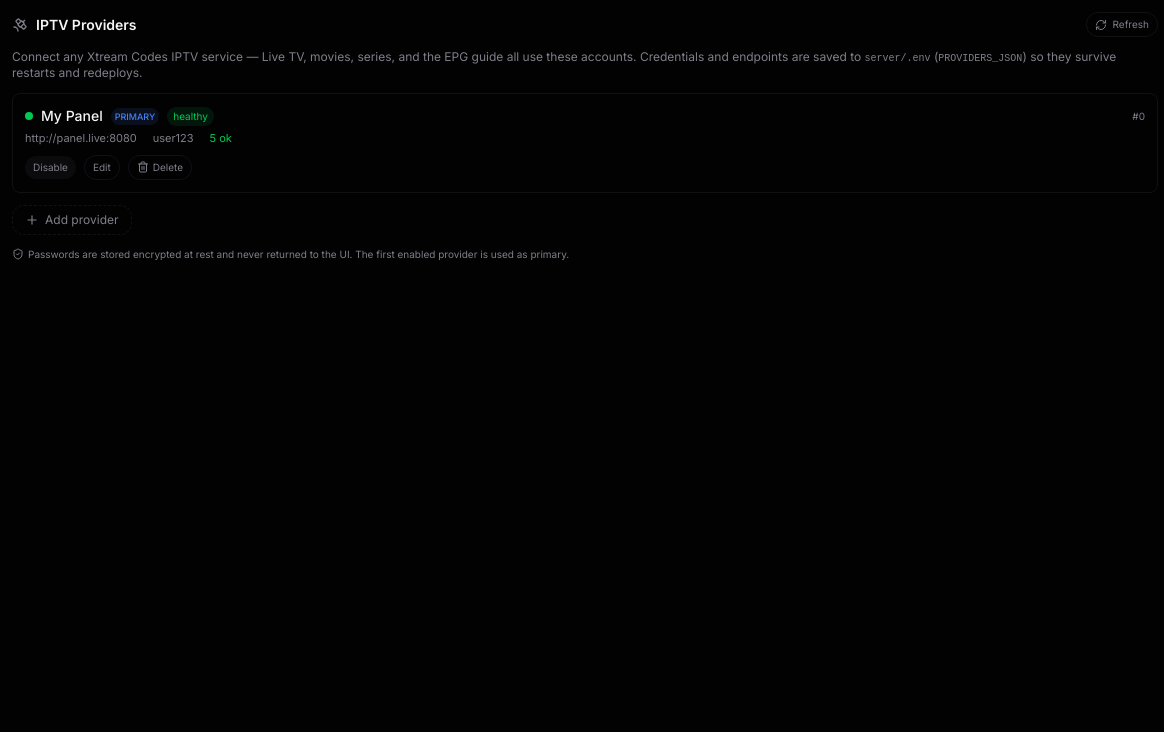
Scenario: ProviderSettings › saves an edit without re-entering the password
The width and height of the screenshot is (1164, 732).
Expected: the text "Connect any Xtream Codes IPTV service" is shown, 12,49 -> 861,64
Click the button "Edit". click: (102, 167)
box: 84,155 -> 120,180
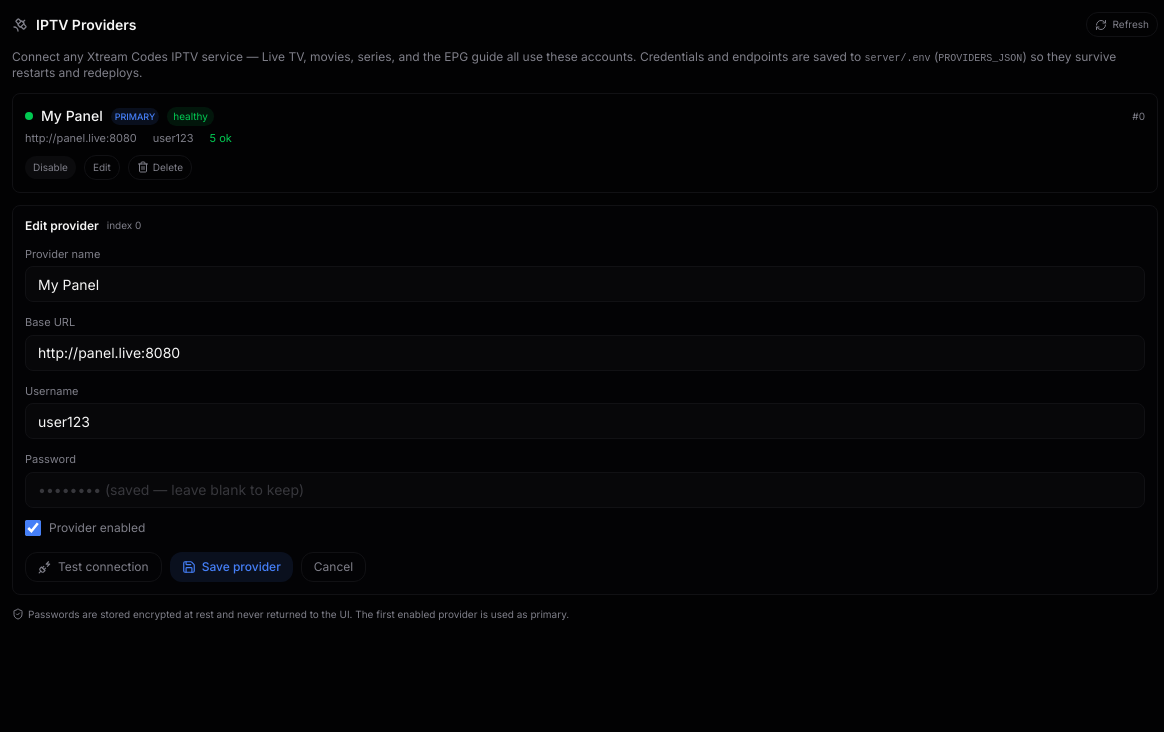
Expected: the field labelled "Base URL" is shown, 25,335 -> 1145,371
Click the button "Save provider". click: (231, 567)
box: 170,552 -> 293,582
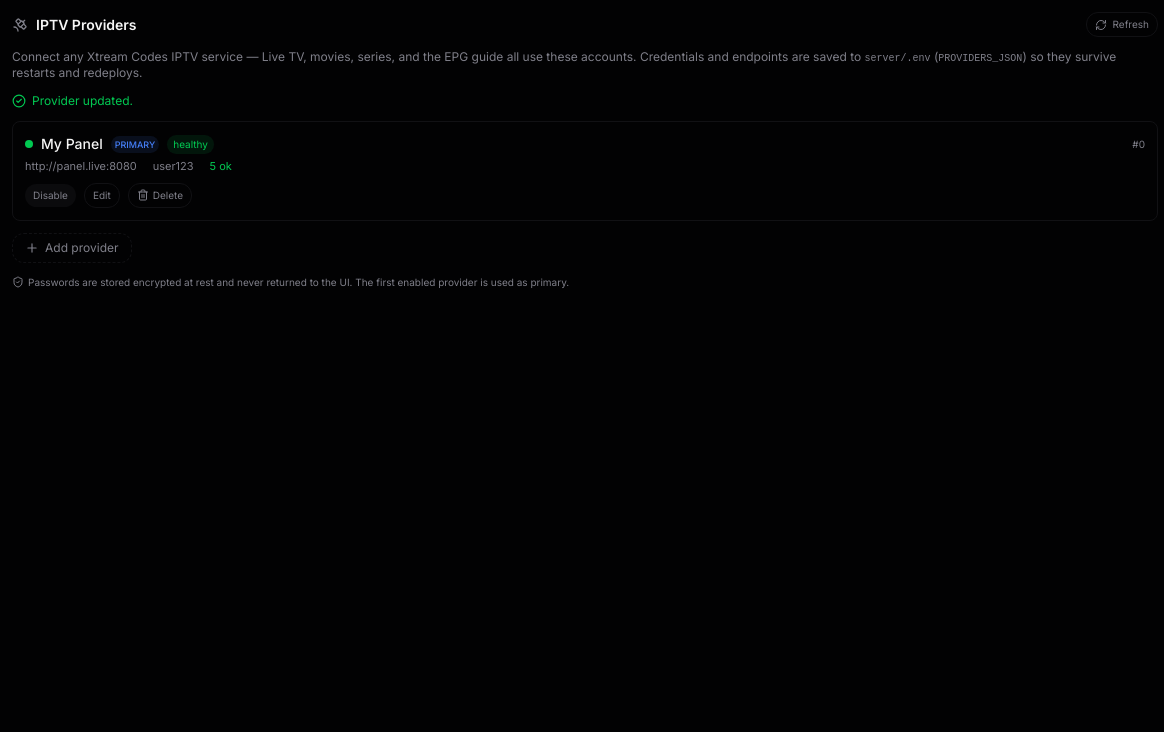
Expected: the text "Provider updated." is shown, 12,93 -> 133,108
